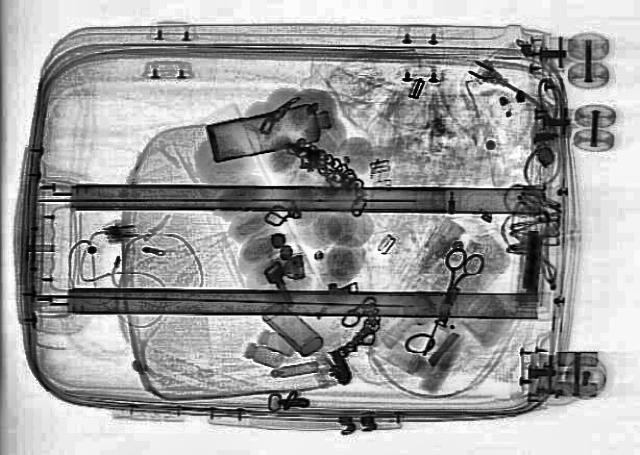Scissors: (418, 246, 488, 324)
